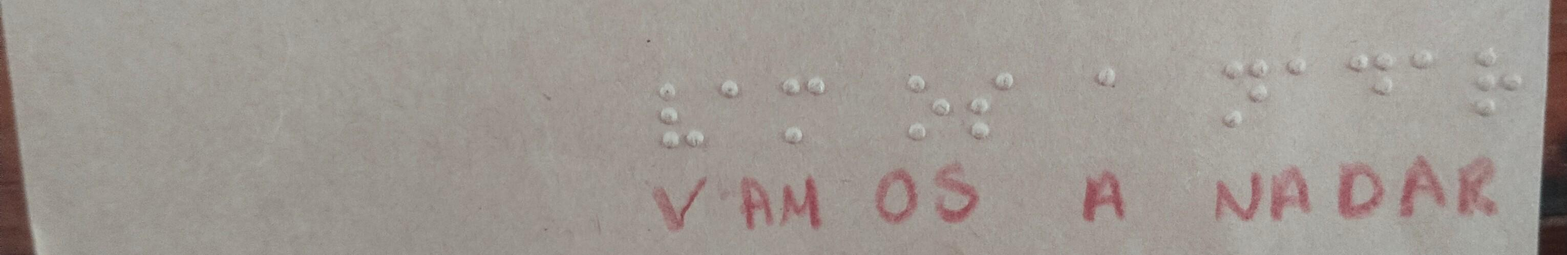a: (1265, 41, 1318, 96), (1084, 49, 1132, 109), (1403, 39, 1441, 87), (715, 73, 753, 118)
d: (1345, 49, 1401, 113)
m: (761, 68, 843, 152)
n: (1217, 48, 1273, 135)
o: (886, 68, 954, 148)
r: (1466, 34, 1526, 128)
s: (956, 67, 1034, 148)
v: (642, 72, 715, 157)
